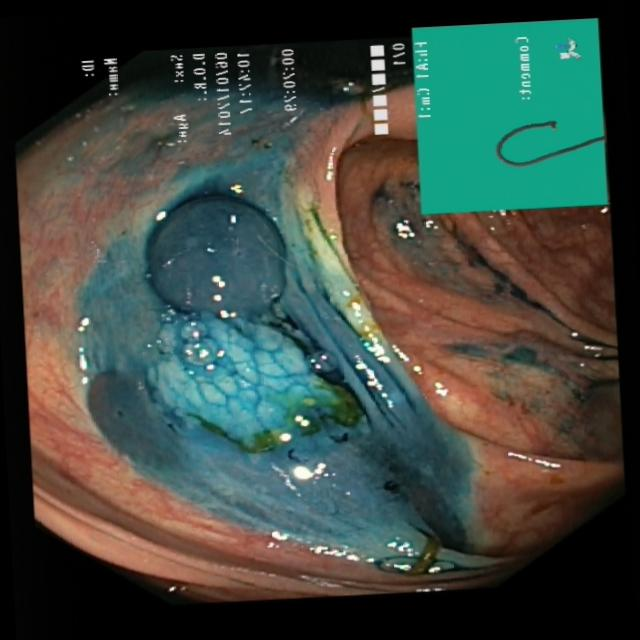dyed-lifted-polyps: (141, 187, 372, 464)
